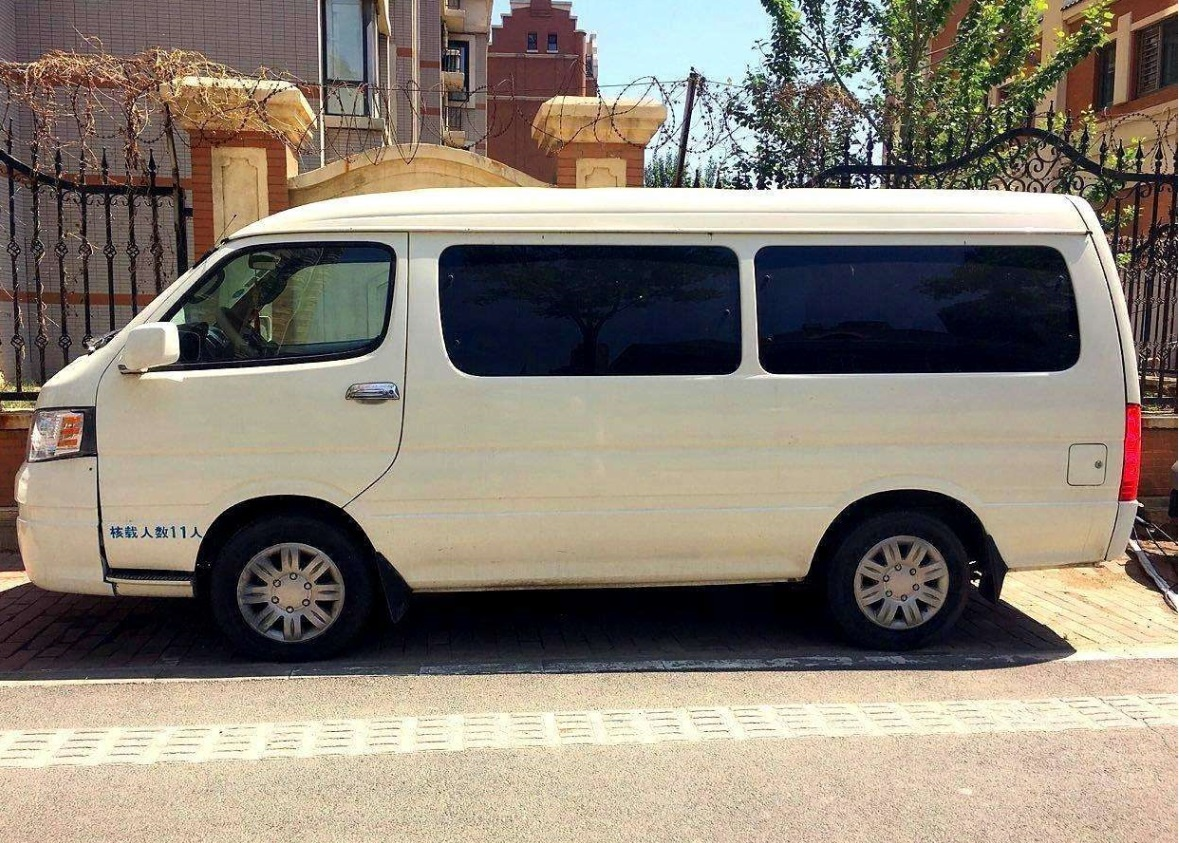minibus: (21, 168, 1144, 658)
